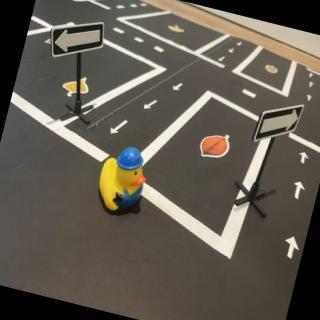duck_specialty: (93, 143, 153, 221)
road_oneway: (279, 230, 305, 266), (107, 114, 133, 140), (290, 178, 308, 204), (141, 95, 161, 117), (296, 148, 313, 169), (170, 80, 186, 97), (305, 92, 316, 105), (227, 46, 237, 57), (217, 54, 227, 64), (236, 40, 246, 49), (308, 80, 316, 90), (308, 73, 315, 80)
sign_oneway_left: (45, 10, 111, 73)
sign_oneway_right: (253, 95, 304, 154)
